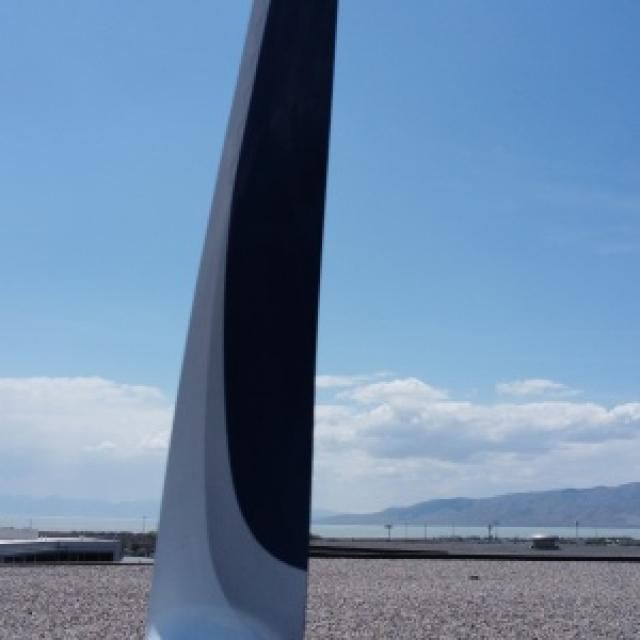healthy: (147, 0, 333, 638)
